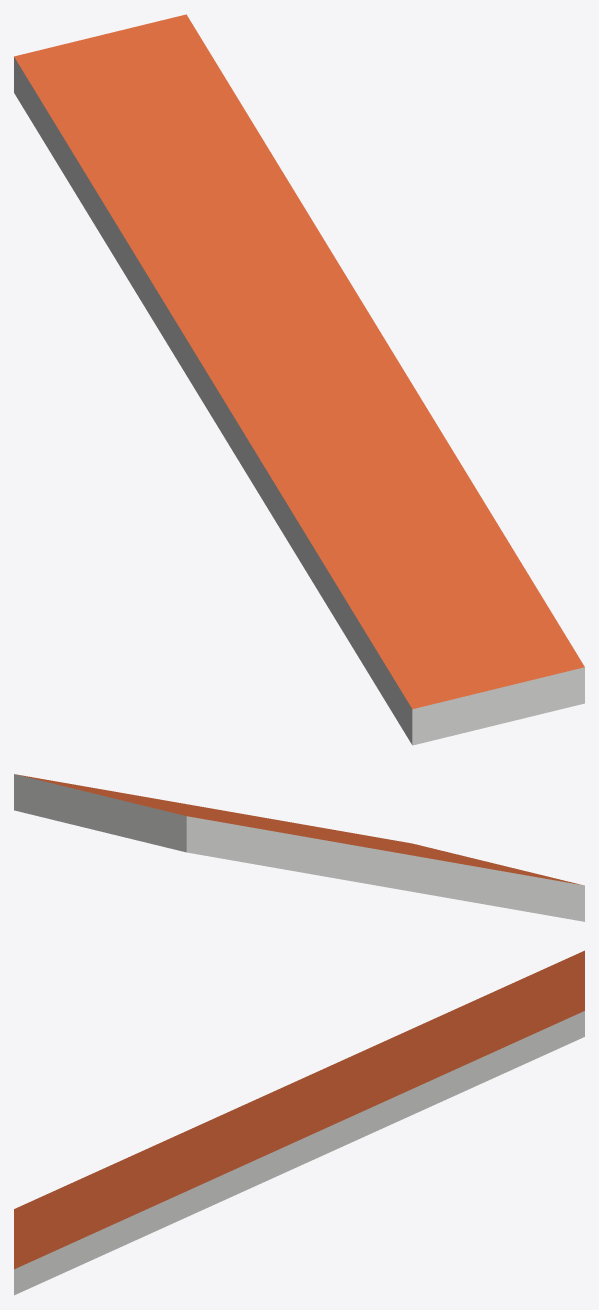
File: telhado_meia_agua_v2_i50_0_5m.glb
The picture shows the model from 3 angles, top to bottom: view 1: azimuth 30°, elevation 25°; view 2: azimuth 150°, elevation 25°; view 3: azimuth 270°, elevation 25°; orthographic projection. The views are drawn at different scales.
Visible parts, largest first — view 1: telhado_meia_agua_v2_i50_0_5m; view 2: telhado_meia_agua_v2_i50_0_5m; view 3: telhado_meia_agua_v2_i50_0_5m.
Part boxes in pixels (left/top/right/bottom): telhado_meia_agua_v2_i50_0_5m: left=14, top=14, right=584, bottom=745; telhado_meia_agua_v2_i50_0_5m: left=14, top=774, right=584, bottom=921; telhado_meia_agua_v2_i50_0_5m: left=14, top=950, right=584, bottom=1295.
Size of the model in its own units: 0.5 by 1.1 by 2.
